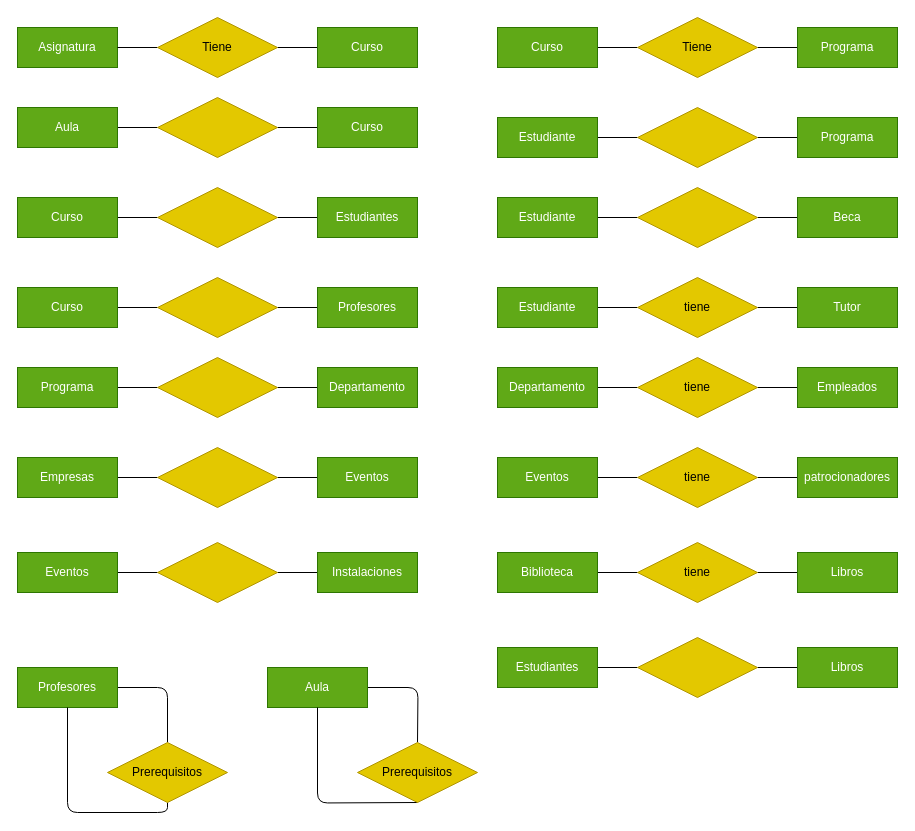
Image size: 915x831. Some labels were removed from this diagram. The centre of each missing label's shape, as x and y in pixels:
"Asociado" goes at (x=697, y=137).
"imparten" goes at (x=217, y=307).
"lleva a cabo" goes at (x=217, y=127).
"matriculados" goes at (x=217, y=217).
"patrocionan" goes at (x=217, y=477).
"prestan" goes at (x=697, y=667).
"Reciben" goes at (x=697, y=217).
"se asocia" goes at (x=217, y=387).
"tienen" goes at (x=217, y=572).
